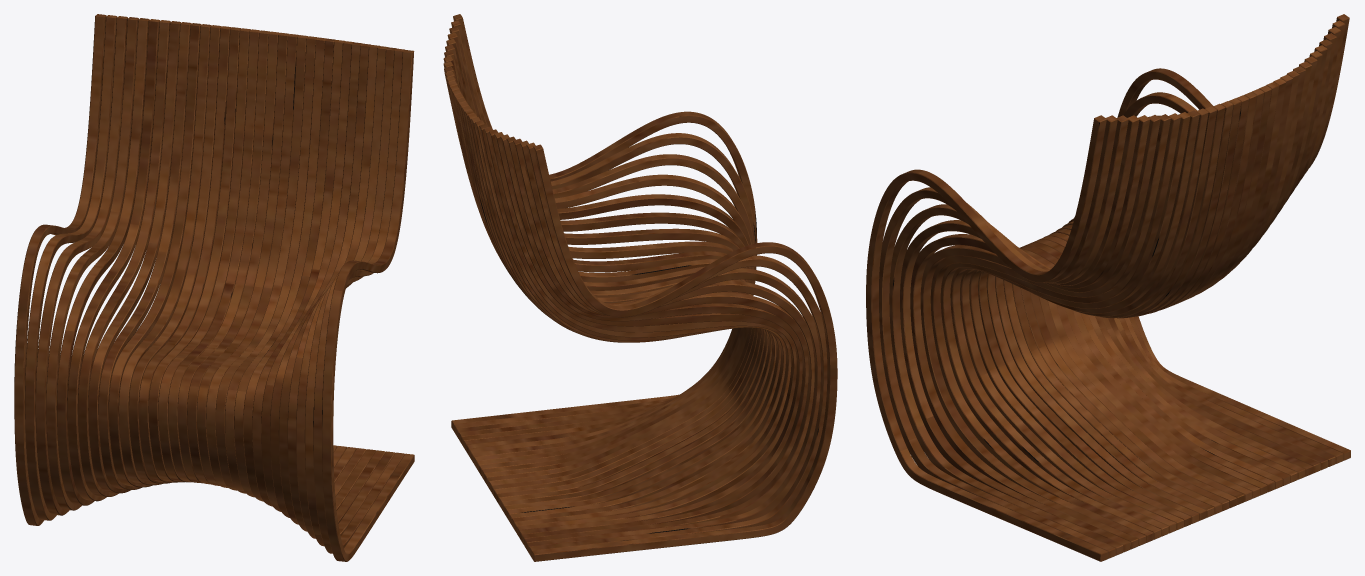
Rendered from Designed_Chair2.glb.
The picture shows the model from 3 angles, left to right: view 1: azimuth 30°, elevation 25°; view 2: azimuth 150°, elevation 25°; view 3: azimuth 270°, elevation 25°; orthographic projection. The views are drawn at different scales.
Visible parts, largest first — view 1: Pipo Chair_0; view 2: Pipo Chair_0; view 3: Pipo Chair_0.
Part boxes in pixels (x1,y1,x2,y2): Pipo Chair_0: (14,14,414,561); Pipo Chair_0: (443,14,837,561); Pipo Chair_0: (866,14,1350,561).
Bounding box in the file's own units: 77.35 × 77.73 × 77.38.
1 material, 1 textured.
